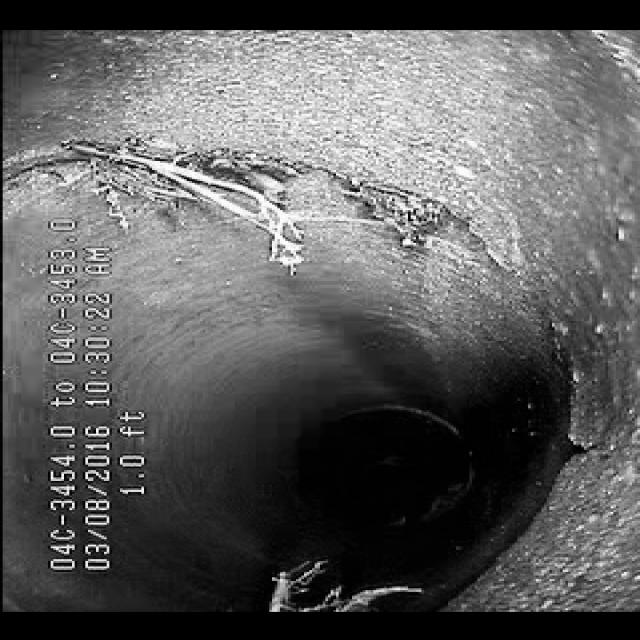Fracture: (289, 147, 539, 239)
